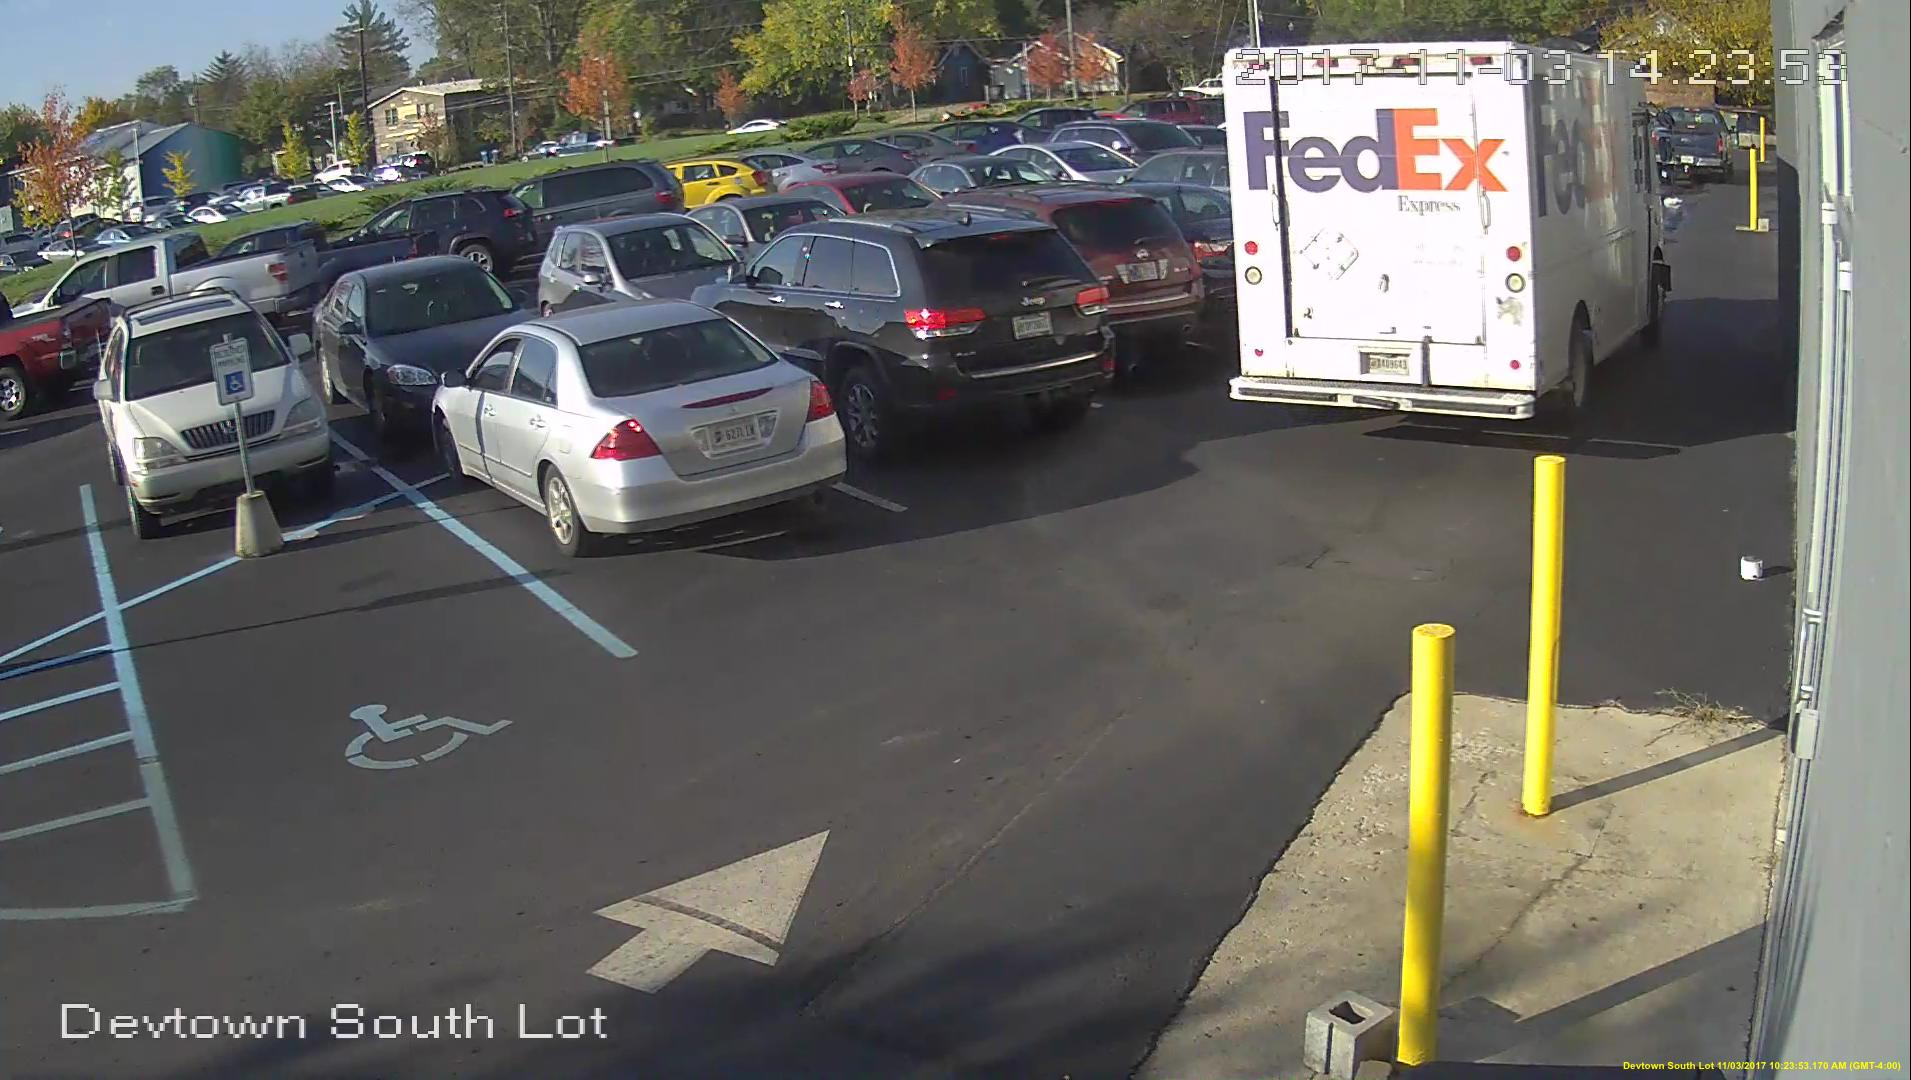fedex_truck: (1215, 35, 1683, 432)
